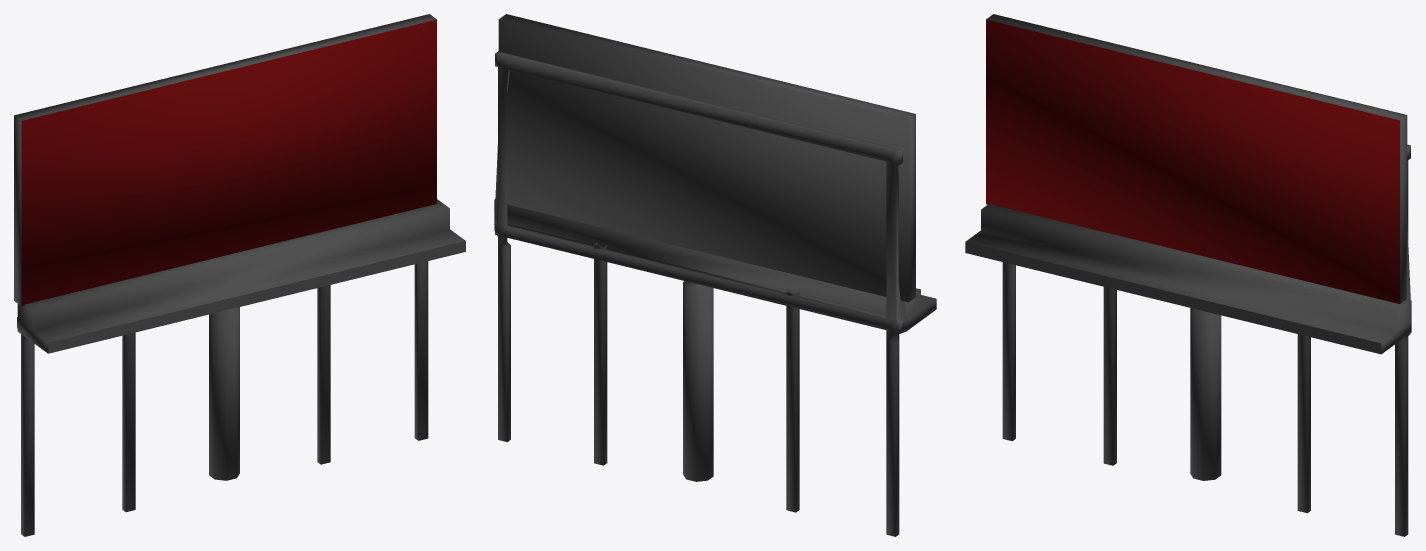
The model's file is billboard.glb.
3 views of the same model, side by side, from view 1: azimuth 30°, elevation 25°; view 2: azimuth 150°, elevation 25°; view 3: azimuth 330°, elevation 25° (orthographic).
Parts seen in each view (by area): view 1: bill_board; view 2: bill_board; view 3: bill_board.
Boxes of the visible parts, x1,y1,x2,y2 form: bill_board: (14,14,465,536); bill_board: (494,14,936,536); bill_board: (965,14,1411,536).
Bounding box in the file's own units: 93.67 × 90.16 × 15.37.
